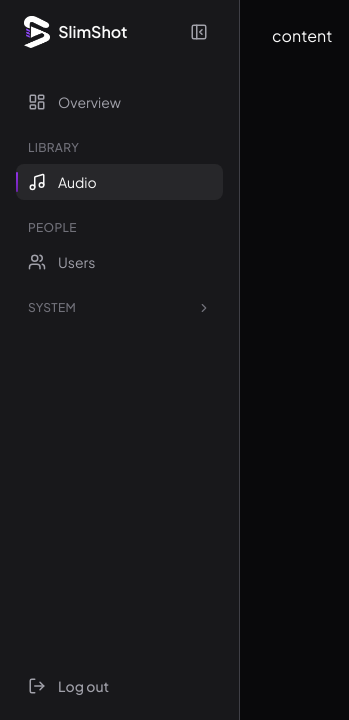
it: AppShell › shows a non-owner only the System pages they can use
The width and height of the screenshot is (349, 720).
Check: the link "Audio" is shown, box [16, 164, 223, 200]
Click the button "System".
click(120, 310)  # box [16, 300, 223, 320]
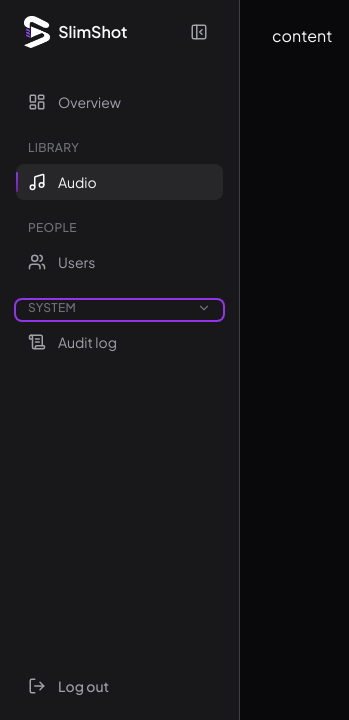
Check: the link "Audit log" is shown, box [28, 333, 117, 351]
